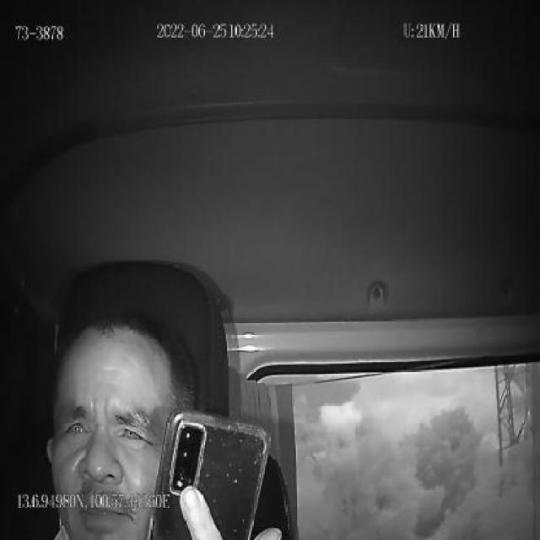phone: (147, 408, 270, 540)
